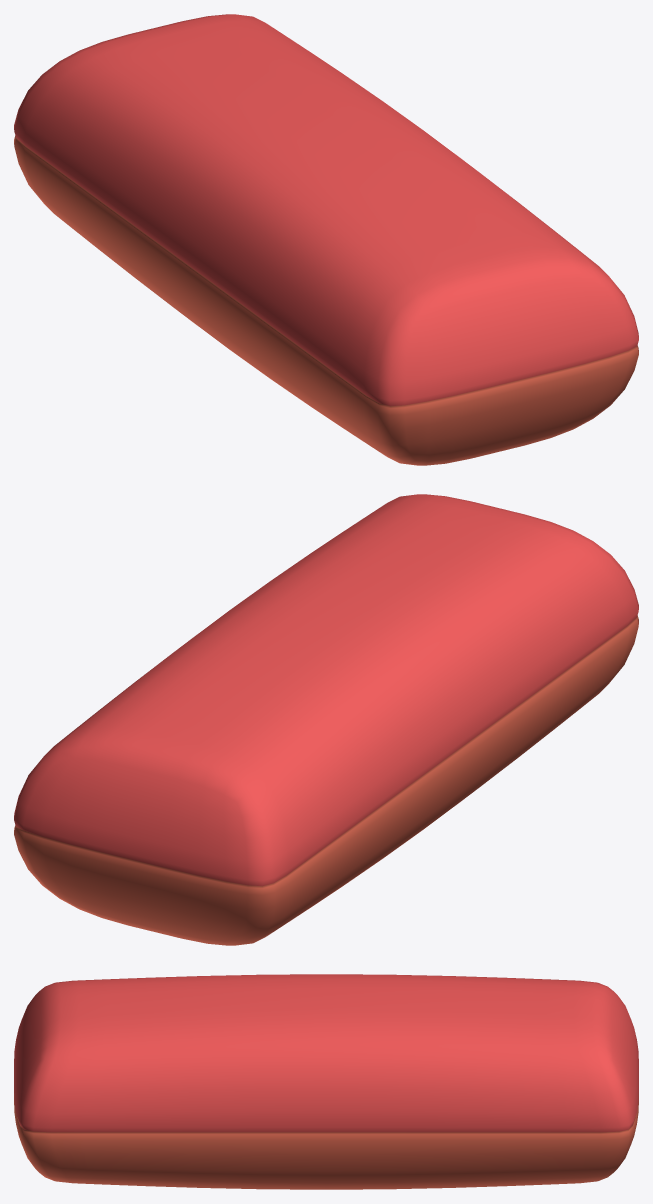
Rendered from Blobb.fbx.
The picture shows the model from 3 angles, top to bottom: view 1: azimuth 30°, elevation 25°; view 2: azimuth 150°, elevation 25°; view 3: azimuth 270°, elevation 25°; orthographic projection. The views are drawn at different scales.
Parts seen in each view (by area): view 1: Blobb; view 2: Blobb; view 3: Blobb.
Part boxes in pixels (x1,y1,x2,y2): Blobb: (14,14,638,465); Blobb: (14,494,638,945); Blobb: (14,974,638,1189).
Bounding box in the file's own units: 0.1121 × 0.0833 × 0.2841.
Materials: 1 (1 with a texture image).
